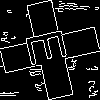E: (25, 25, 77, 67)
